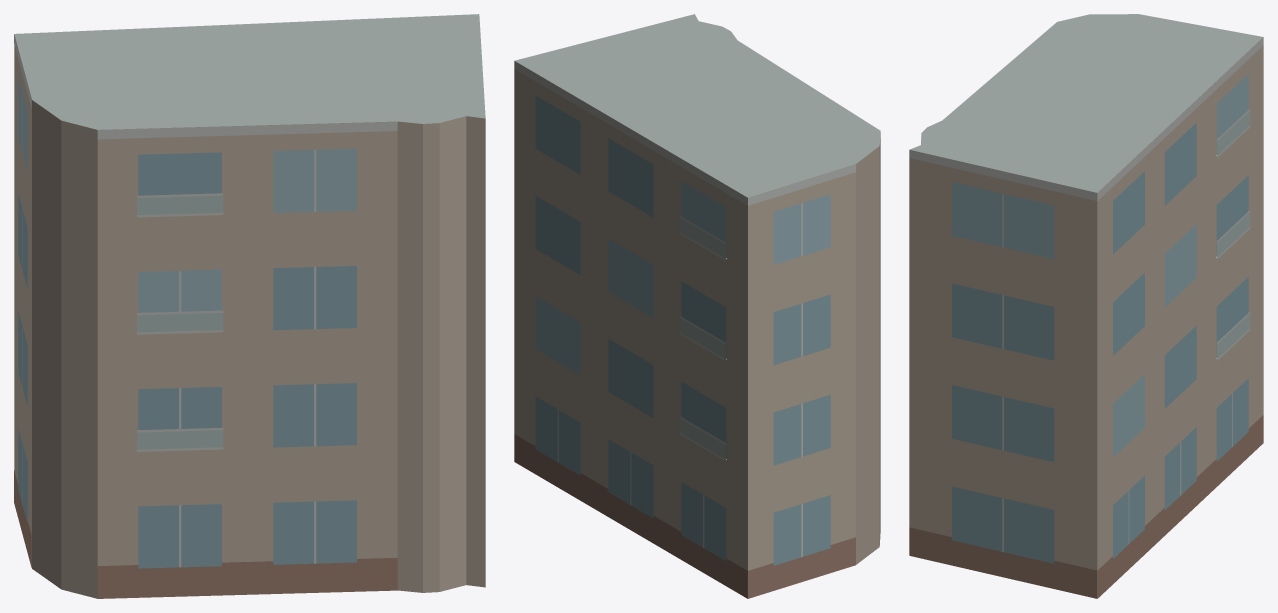
File: survey-upis-32727131.glb
The picture shows the model from 3 angles, left to right: view 1: azimuth 30°, elevation 25°; view 2: azimuth 150°, elevation 25°; view 3: azimuth 270°, elevation 25°; orthographic projection. The views are drawn at different scales.
Visible parts, largest first — view 1: survey-upis-32727131.tmp; view 2: survey-upis-32727131.tmp; view 3: survey-upis-32727131.tmp.
Boxes of the visible parts, x1,y1,x2,y2 form: survey-upis-32727131.tmp: [14, 14, 485, 598]; survey-upis-32727131.tmp: [514, 14, 880, 598]; survey-upis-32727131.tmp: [909, 14, 1263, 598].
Size of the model in its own units: 11.35 by 12 by 9.5.
